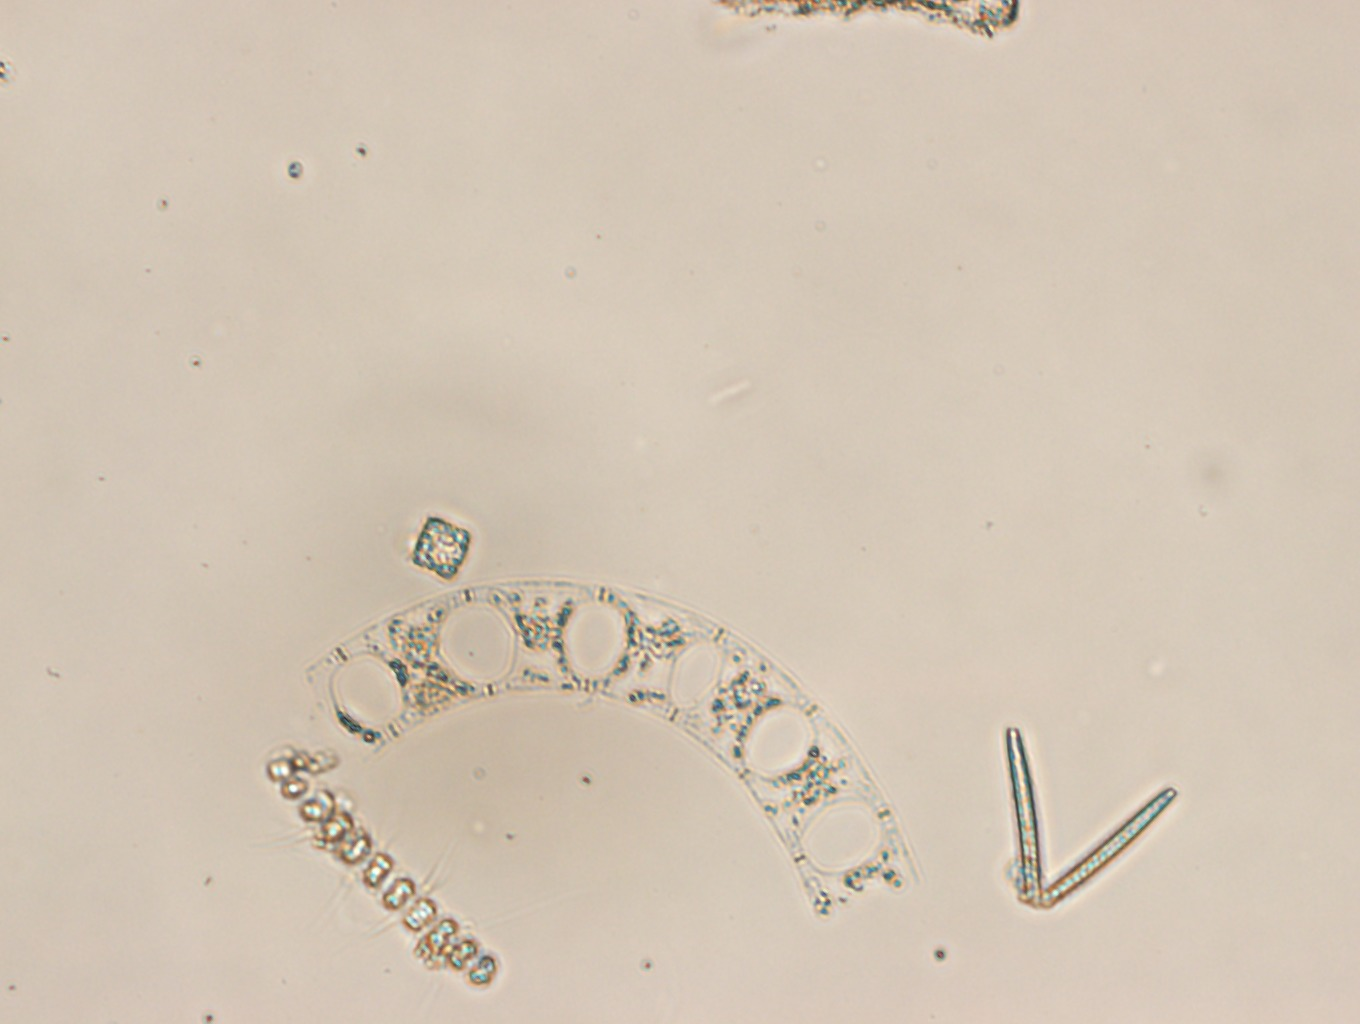chaetoceros: (262, 750, 499, 994)
eucampia: (298, 578, 920, 919)
thalassionema nitzschioides: (1006, 724, 1179, 914)
